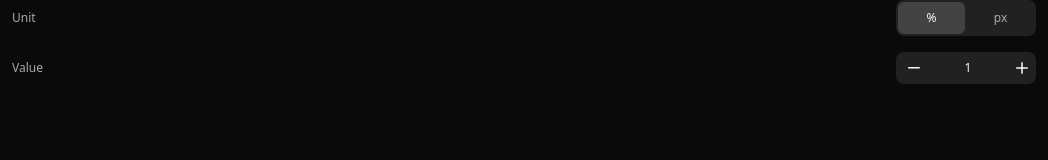
UnitValueInput Component › When unit is px › no max limit
Step 1. Click the text "px" → click(1001, 18), box 994,9 -> 1007,26
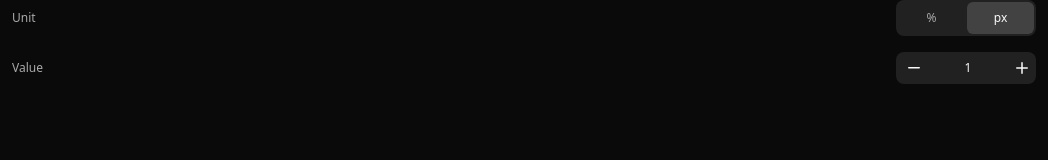
Expected: the text "px" has class "bg-[#424242]", 967,2 -> 1034,34
Step 2. Replace the text in the field with "150" → (968, 68), box 932,52 -> 1004,84
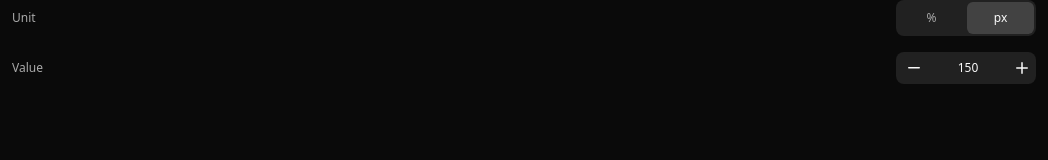
Step 3. Click the button named "btn-plus" → click(1020, 68), box 1004,52 -> 1036,84
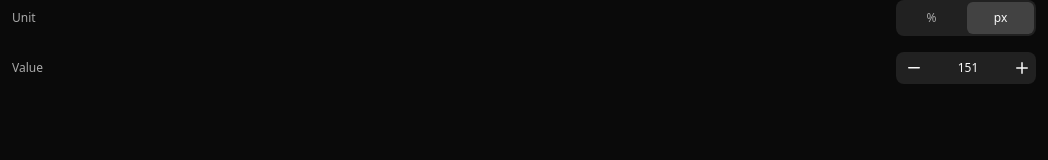
Expected: the field holds "151", 932,52 -> 1004,84
